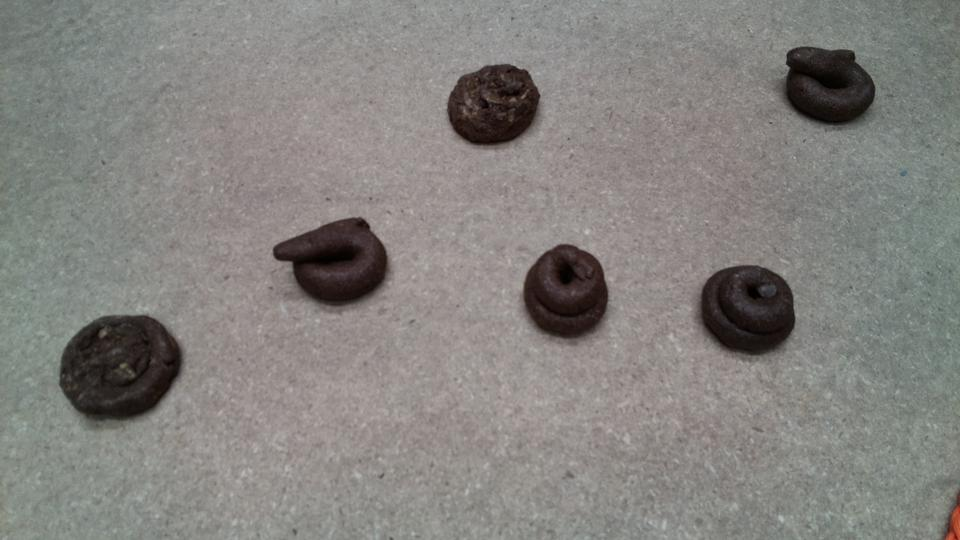poop: (56, 312, 185, 423), (272, 212, 390, 305), (698, 260, 800, 357), (519, 240, 610, 341), (445, 59, 544, 149), (780, 43, 880, 129)
rope: (940, 491, 960, 539)
